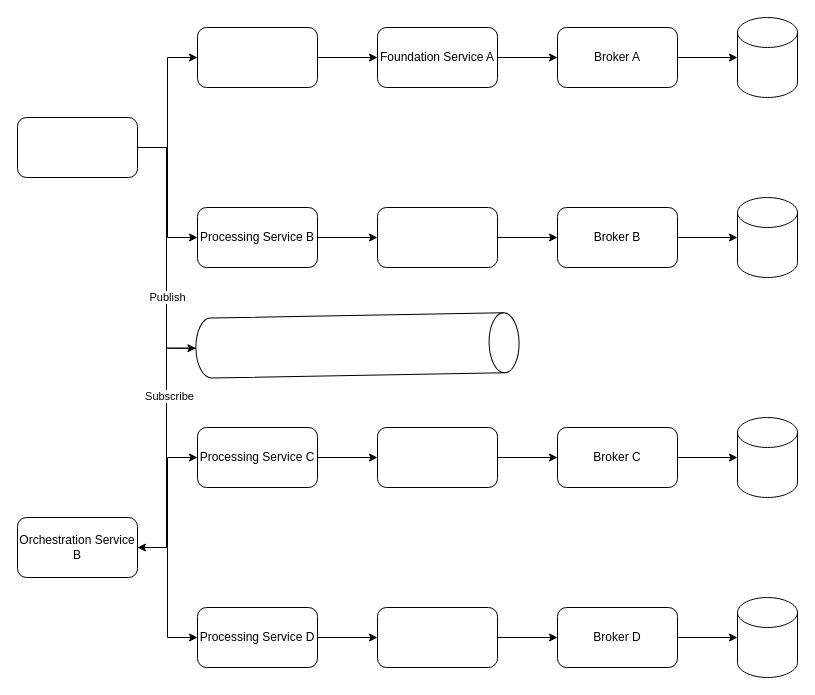
Some shapes in this 815 by 695 pixel diagram are drawn without their labels. The shapes that lost their labels are listed below. From the top down, each one's centre as x and y in pixels, then its label:
At [257,57]: "Processing Service A".
At [77,147]: "Orchestration Service A".
At [437,237]: "Foundation Service B".
At [437,457]: "Foundation Service C".
At [437,637]: "Foundation Service D".
